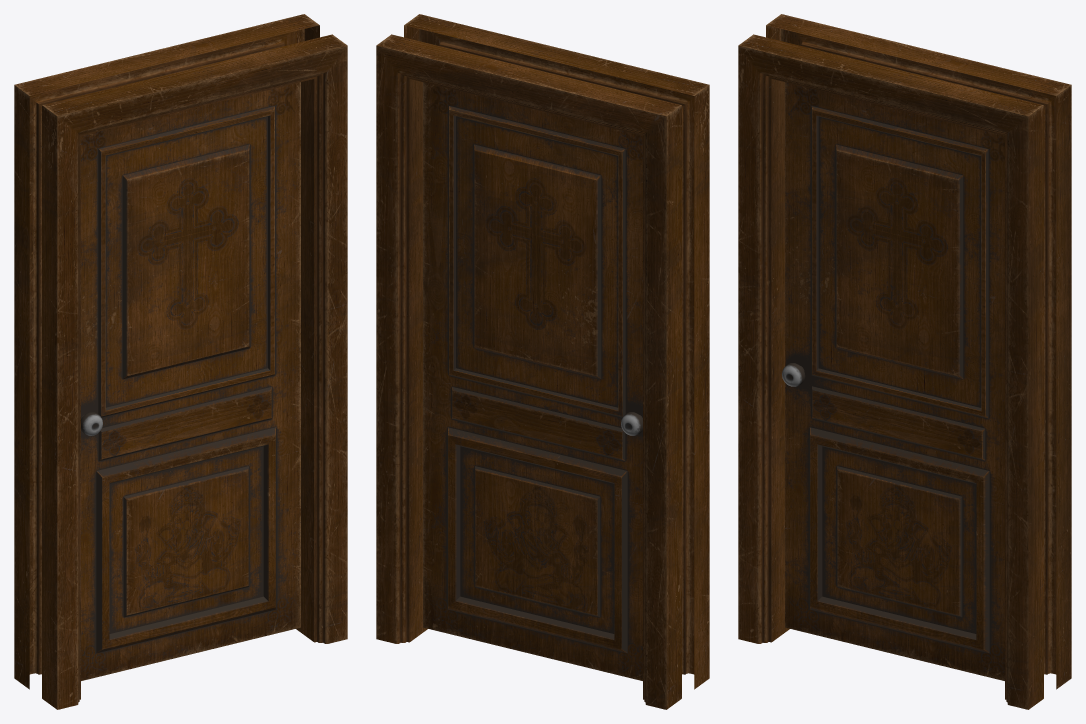
File: door.glb
3 renders of one model, left to right at view 1: azimuth 30°, elevation 25°; view 2: azimuth 150°, elevation 25°; view 3: azimuth 330°, elevation 25°, orthographic.
Parts seen in each view (by area): view 1: 01_01_0, 02_02_0; view 2: 01_01_0, 02_02_0; view 3: 01_01_0, 02_02_0.
Part boxes in pixels (x1,y1,x2,y2): 01_01_0: (81, 82, 300, 680); 02_02_0: (14, 14, 347, 709); 01_01_0: (423, 82, 642, 680); 02_02_0: (376, 14, 709, 709); 01_01_0: (782, 82, 1004, 680); 02_02_0: (738, 14, 1071, 709).
Size of the model in its own units: 1.27 by 2.47 by 0.3266.
2 materials, 2 textured.
